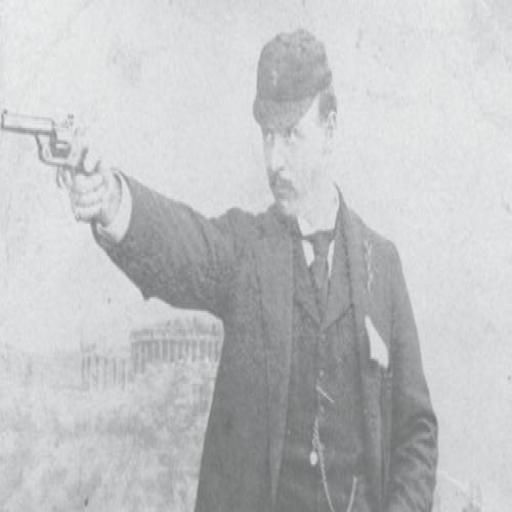shooting: (56, 25, 444, 510)
